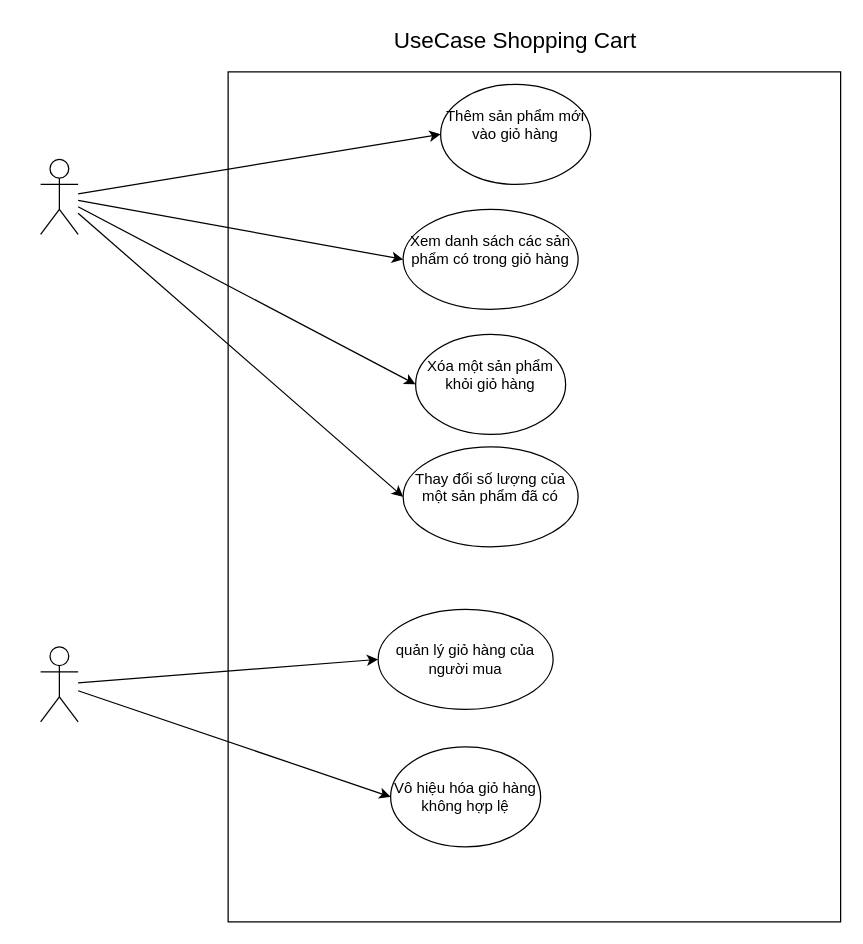
This 863x944 diagram has some shape labels left out. Each missing label, with the centre of its shape:
"Admin" belongs at [58,684].
"Người mua" belongs at [58,196].
